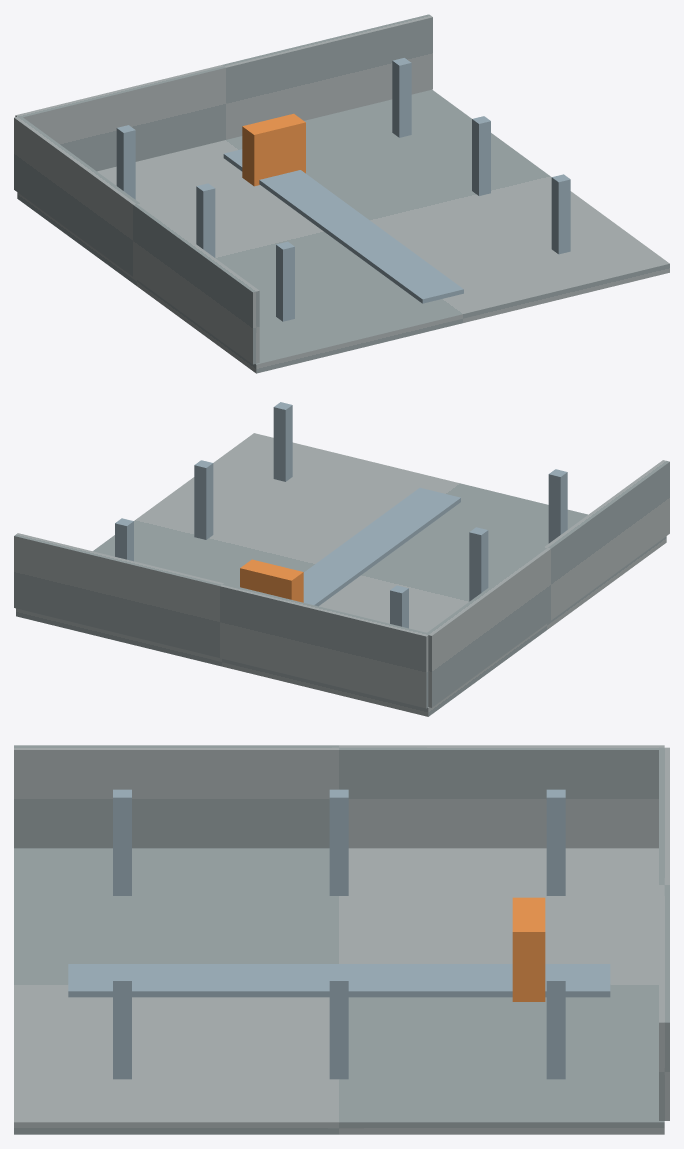
The model's file is environment.gltf.
The picture shows the model from 3 angles, top to bottom: view 1: azimuth 30°, elevation 25°; view 2: azimuth 150°, elevation 25°; view 3: azimuth 270°, elevation 25°; orthographic projection. The views are drawn at different scales.
Visible parts, largest first — view 1: Floor, North wall, West wall, Walkway, Signal block, Steel pillar 8 -8, Steel pillar 8 8, Steel pillar -8 8, Steel pillar 8 0, Steel pillar -8 0, Steel pillar -8 -8; view 2: Floor, North wall, West wall, Walkway, Signal block, Steel pillar 8 8, Steel pillar 8 0, Steel pillar -8 8, Steel pillar -8 0, Steel pillar -8 -8, Steel pillar 8 -8; view 3: Floor, West wall, Walkway, North wall, Signal block, Steel pillar -8 -8, Steel pillar -8 0, Steel pillar 8 -8, Steel pillar 8 0, Steel pillar -8 8, Steel pillar 8 8.
Boxes of the visible parts, box(x1,y1,x2,y2) form: Floor: box(17, 89, 669, 373); North wall: box(15, 14, 432, 171); West wall: box(14, 116, 259, 364); Walkway: box(223, 149, 463, 303); Signal block: box(242, 113, 305, 186); Steel pillar 8 -8: box(392, 58, 411, 137); Steel pillar 8 8: box(551, 174, 570, 254); Steel pillar -8 8: box(276, 241, 294, 321); Steel pillar 8 0: box(472, 116, 490, 195); Steel pillar -8 0: box(196, 183, 215, 257); Steel pillar -8 -8: box(116, 125, 135, 199); Floor: box(16, 433, 666, 716); North wall: box(14, 533, 429, 708); West wall: box(426, 460, 669, 707); Walkway: box(303, 487, 460, 606); Signal block: box(240, 559, 303, 602); Steel pillar 8 8: box(273, 402, 292, 481); Steel pillar 8 0: box(194, 460, 213, 539); Steel pillar -8 8: box(548, 469, 567, 543); Steel pillar -8 0: box(469, 527, 488, 601); Steel pillar -8 -8: box(390, 585, 408, 628); Steel pillar 8 -8: box(115, 518, 133, 561); Floor: box(14, 848, 664, 1134); West wall: box(14, 745, 664, 848); Walkway: box(68, 964, 610, 997); North wall: box(659, 747, 669, 1120); Signal block: box(512, 897, 545, 1001); Steel pillar -8 -8: box(546, 789, 565, 895); Steel pillar -8 0: box(329, 789, 348, 895); Steel pillar 8 -8: box(546, 973, 565, 1079); Steel pillar 8 0: box(329, 973, 348, 1079); Steel pillar -8 8: box(113, 789, 131, 895); Steel pillar 8 8: box(113, 973, 131, 1079).
Bounding box in the file's own units: 24.2 × 4.55 × 24.2.
Materials: 3 (1 with a texture image).
